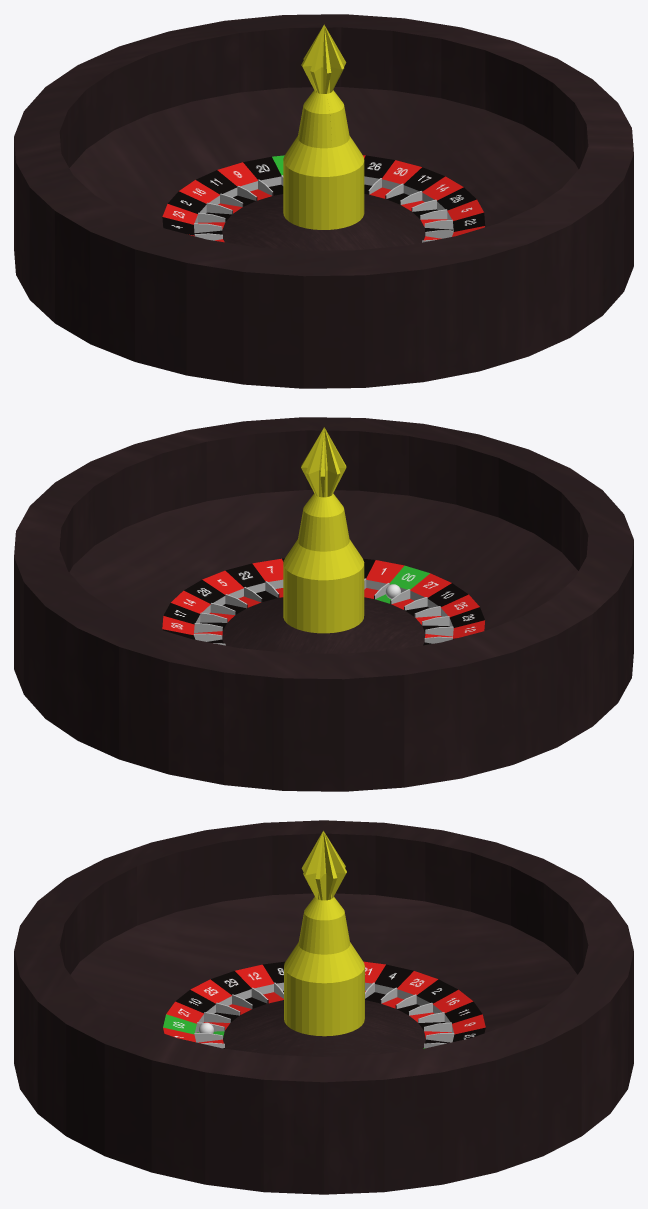
The model's file is RouletteWheel32_deep_pockets.fbx.
3 views of the same model, one above another, from view 1: azimuth 30°, elevation 25°; view 2: azimuth 150°, elevation 25°; view 3: azimuth 270°, elevation 25° (orthographic).
Parts seen in each view (by area): view 1: RouletteBowl, RouletteWheel; view 2: RouletteBowl, RouletteWheel; view 3: RouletteBowl, RouletteWheel.
Boxes of the visible parts, x1=… form: RouletteBowl: x1=14, y1=14, x2=633, y2=388; RouletteWheel: x1=162, y1=24, x2=485, y2=250; RouletteBowl: x1=14, y1=417, x2=633, y2=791; RouletteWheel: x1=162, y1=427, x2=484, y2=653; RouletteBowl: x1=14, y1=820, x2=633, y2=1194; RouletteWheel: x1=163, y1=831, x2=485, y2=1056.
Bounding box in the file's own units: 20 × 8.3 × 20.
